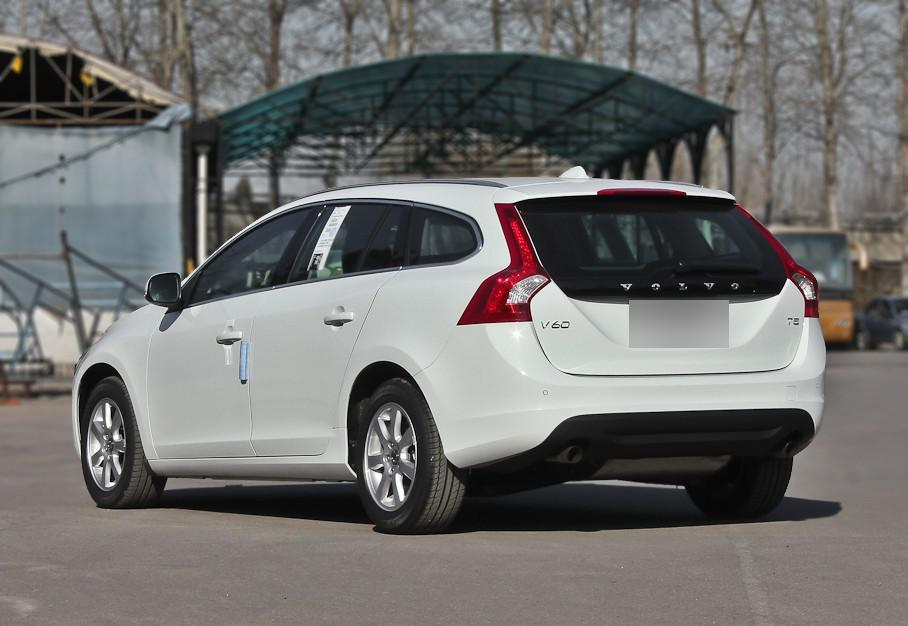Wagon: (70, 164, 827, 533)
